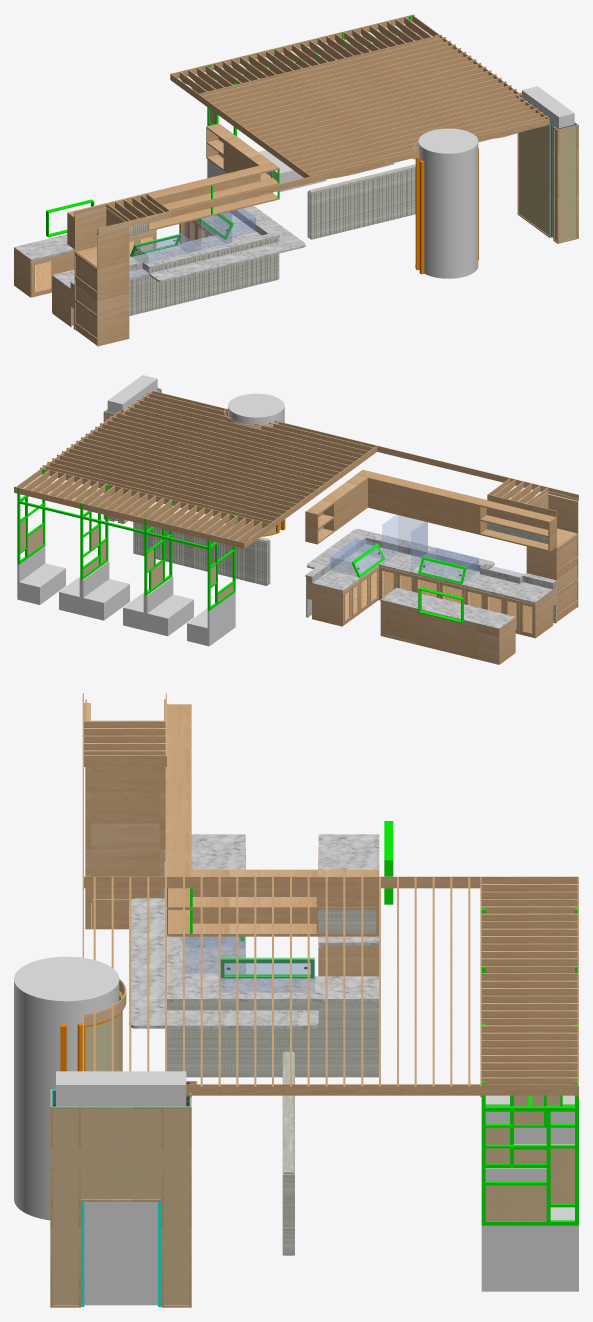
3 views of the same model, one above another, from view 1: azimuth 30°, elevation 25°; view 2: azimuth 150°, elevation 25°; view 3: azimuth 270°, elevation 25° (orthographic). The views are drawn at different scales.
Parts seen in each view (by area): view 1: G-Object.190, G-NBT026_Hông trái hoàn thiện ngoài_FB08.T18.003, G-__52. NBT026_Ốp cột vuông_FB08.001, G-__45. NBT026_Ốp cột vuông_FB08.001, G-NBT026_Hậu hoàn thiện_FB08.T18.003, G-Object.189, G-__2. NBT026_Ốp cột vuông_FB08.001, G-NBT026_Mặt đá_FB08.T3T4.002, G-NBT026_Hông trái hoàn thiện_FB08.T19.003, G-NBT026_Hông phải hoàn thiện_FB08.T19.003, G-NBT026_Mặt đá_FB08.T3T4.001, G-NBT026_Tấm kính mặt_FB08.T4.002 (+63 smaller); view 2: G-NBT026_Hậu_FB08.T12.001, G-Object.155, G-Object.170, G-NBT026_Mặt đá_FB08.T11T12T13.001, G-Object.191, G-Object.154, G-Object.190, G-NBT026_Mặt đá_FB08.T5T6T7, G-NBT026_Mặt đá_FB08.T3T4.001, G-NBT026_Hậu hoàn thiện_FB08.T18.003, G-NBT026_Mặt đá_FB08.T1T2, G-NBT026_Hậu_FB08.T13.001 (+78 smaller); view 3: G-Object.190, G-Object.189, G-__59. NBT026_Ốp cột vuông_FB08.001, G-NBT026_Hậu hoàn thiện_FB08.T18.003, G-Object.191, G-__62. NBT026_Ốp cột vuông_FB08.001, G-__61. NBT026_Ốp cột vuông_FB08.001, G-NBT026_Mặt đá_FB08.T5T6T7, G-NBT026_Mặt đá_FB08.T11T12T13.001, G-NBT026_Mặt đá_FB08.T3T4.002, G-NBT026_Mặt đá_FB08.T5T6.001, G-NBT026_Hông trái trần 1.1_FB08.C1.003 (+56 smaller).
Boxes of the visible parts, x1,y1,x2,y2 form: G-Object.190: [418, 128, 478, 278]; G-NBT026_Hông trái hoàn thiện ngoài_FB08.T18.003: [97, 261, 129, 346]; G-__52. NBT026_Ốp cột vuông_FB08.001: [559, 139, 576, 241]; G-__45. NBT026_Ốp cột vuông_FB08.001: [519, 164, 548, 235]; G-NBT026_Hậu hoàn thiện_FB08.T18.003: [75, 251, 96, 345]; G-Object.189: [522, 86, 574, 237]; G-__2. NBT026_Ốp cột vuông_FB08.001: [519, 128, 548, 185]; G-NBT026_Mặt đá_FB08.T3T4.002: [149, 251, 250, 281]; G-NBT026_Hông trái hoàn thiện_FB08.T19.003: [97, 227, 129, 268]; G-NBT026_Hông phải hoàn thiện_FB08.T19.003: [74, 207, 106, 252]; G-NBT026_Mặt đá_FB08.T3T4.001: [129, 235, 228, 263]; G-NBT026_Tấm kính mặt_FB08.T4.002: [201, 211, 231, 249]; G-NBT026_Hậu_FB08.T12.001: [417, 610, 475, 658]; G-Object.155: [81, 561, 129, 620]; G-Object.170: [145, 576, 193, 636]; G-NBT026_Mặt đá_FB08.T11T12T13.001: [380, 588, 515, 628]; G-Object.191: [17, 546, 65, 604]; G-Object.154: [187, 592, 235, 646]; G-Object.190: [228, 393, 284, 529]; G-NBT026_Mặt đá_FB08.T5T6T7: [312, 544, 396, 591]; G-NBT026_Mặt đá_FB08.T3T4.001: [379, 551, 479, 586]; G-NBT026_Hậu hoàn thiện_FB08.T18.003: [557, 533, 577, 621]; G-NBT026_Mặt đá_FB08.T1T2: [464, 574, 552, 603]; G-NBT026_Hậu_FB08.T13.001: [381, 601, 415, 644]; G-Object.190: [14, 956, 119, 1220]; G-Object.189: [56, 1071, 186, 1305]; G-__59. NBT026_Ốp cột vuông_FB08.001: [81, 1109, 161, 1198]; G-NBT026_Hậu hoàn thiện_FB08.T18.003: [91, 792, 159, 902]; G-Object.191: [481, 1225, 578, 1291]; G-__62. NBT026_Ốp cột vuông_FB08.001: [163, 1130, 189, 1304]; G-__61. NBT026_Ốp cột vuông_FB08.001: [53, 1130, 78, 1304]; G-NBT026_Mặt đá_FB08.T5T6T7: [179, 976, 378, 992]; G-NBT026_Mặt đá_FB08.T11T12T13.001: [318, 834, 379, 945]; G-NBT026_Mặt đá_FB08.T3T4.002: [129, 898, 164, 976]; G-NBT026_Mặt đá_FB08.T5T6.001: [167, 1009, 318, 1028]; G-NBT026_Hông trái trần 1.1_FB08.C1.003: [84, 876, 278, 888].
Size of the model in its own units: 11.85 by 3 by 6.97.
11 materials, 4 textured.
